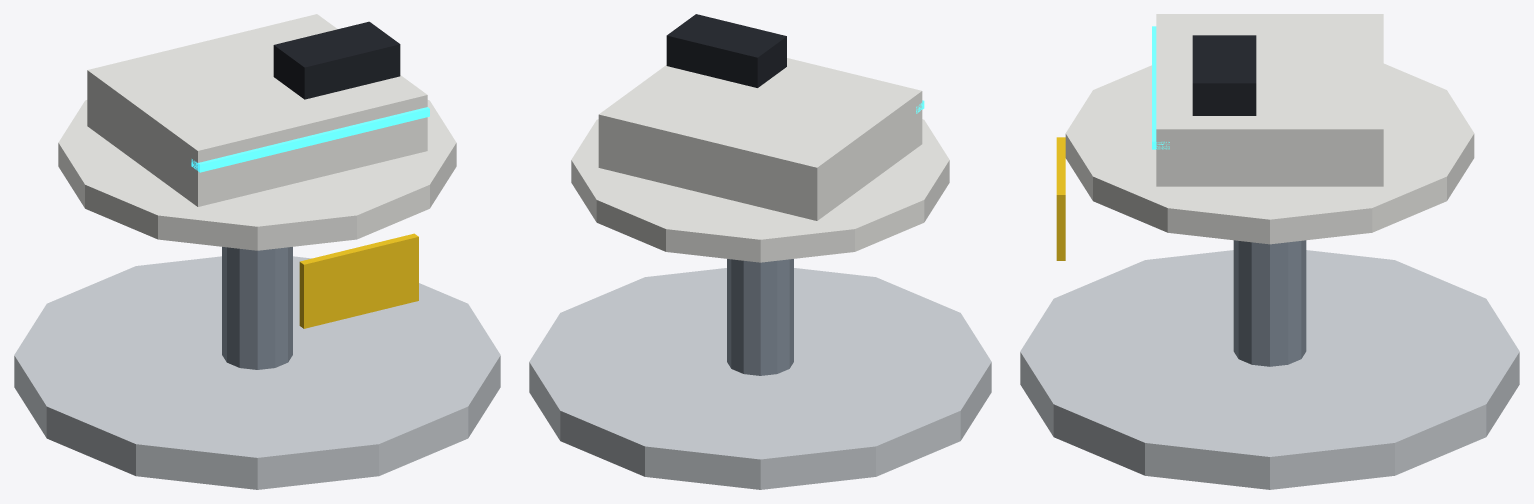
Rendered from item-game_console.glb.
3 views of the same model, side by side, from view 1: azimuth 30°, elevation 25°; view 2: azimuth 150°, elevation 25°; view 3: azimuth 270°, elevation 25° (orthographic). The views are drawn at different scales.
Visible parts, largest first — view 1: item-game_console; view 2: item-game_console; view 3: item-game_console.
Part boxes in pixels (box(x1,y1,x2,y2)): item-game_console: box(14, 14, 500, 489); item-game_console: box(529, 14, 991, 489); item-game_console: box(1020, 14, 1519, 489).
Size of the model in its own units: 1.1 by 0.86 by 1.1.
